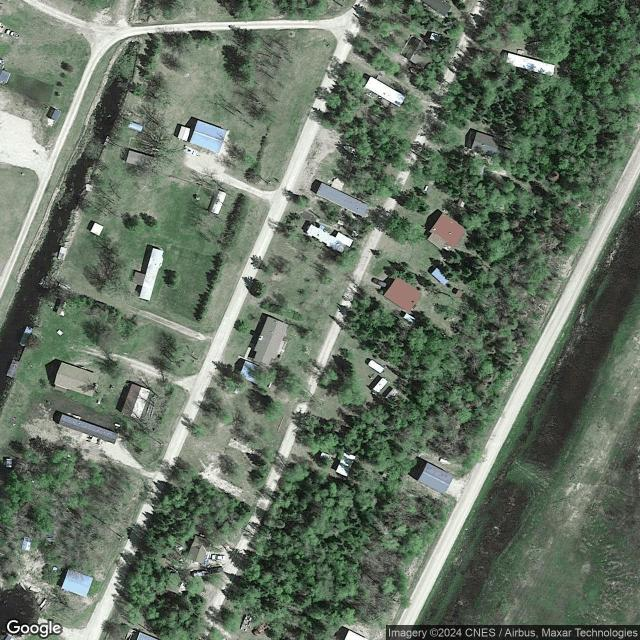Propane: (423, 184, 429, 192)
